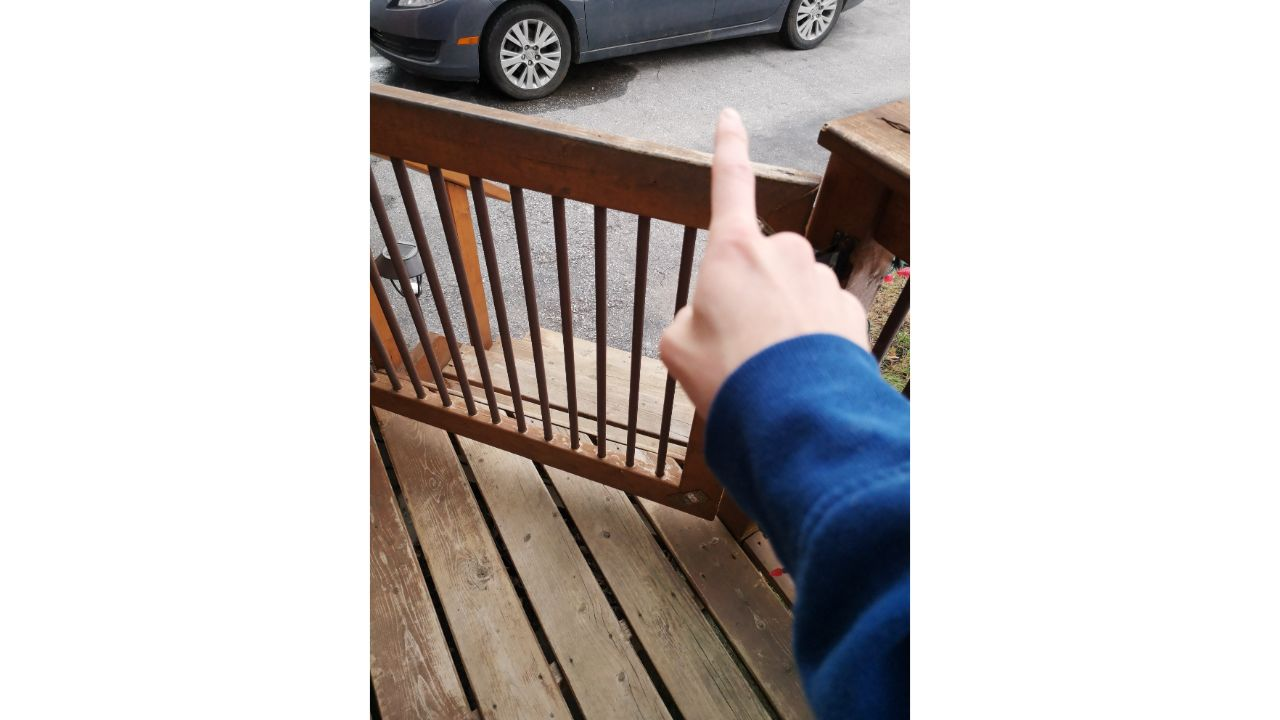finger: (655, 102, 880, 429)
